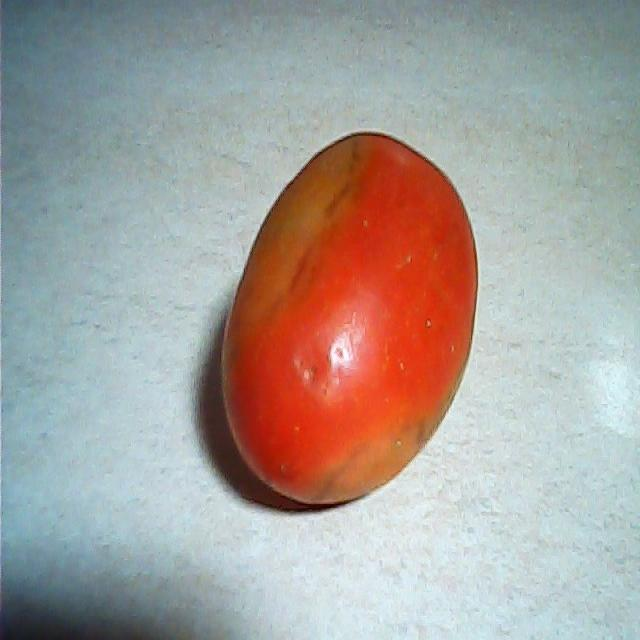maduro: (217, 130, 480, 513)
